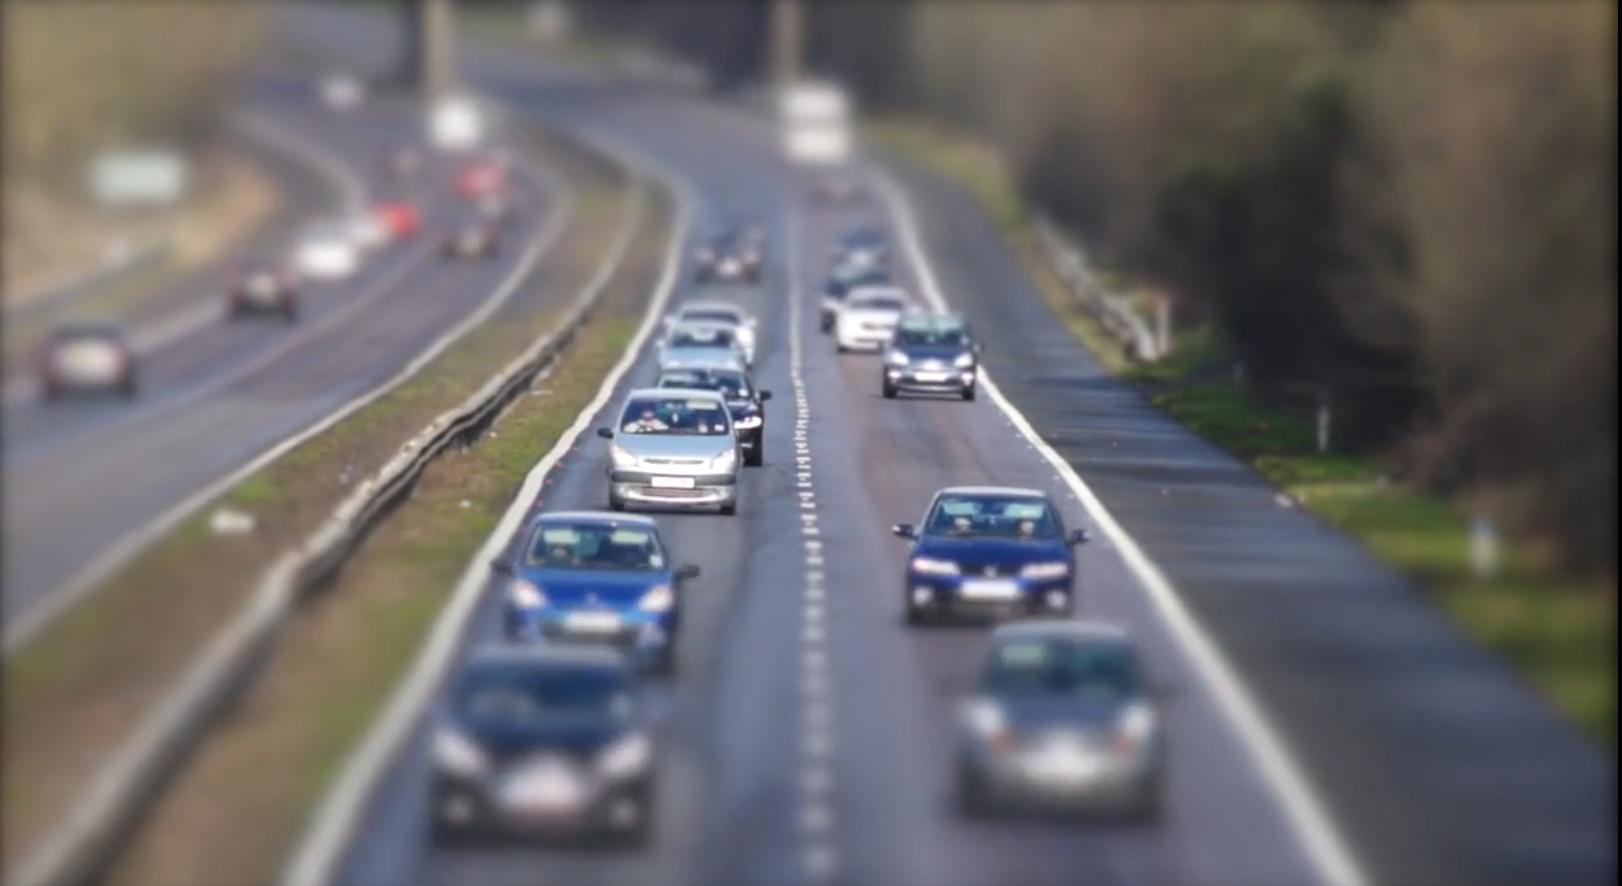car: (418, 635, 738, 856), (955, 630, 1226, 857), (505, 509, 768, 660), (910, 474, 1138, 640), (32, 290, 221, 422), (595, 394, 757, 520), (888, 307, 1017, 436), (685, 215, 804, 312), (225, 252, 346, 344), (838, 289, 908, 363)
